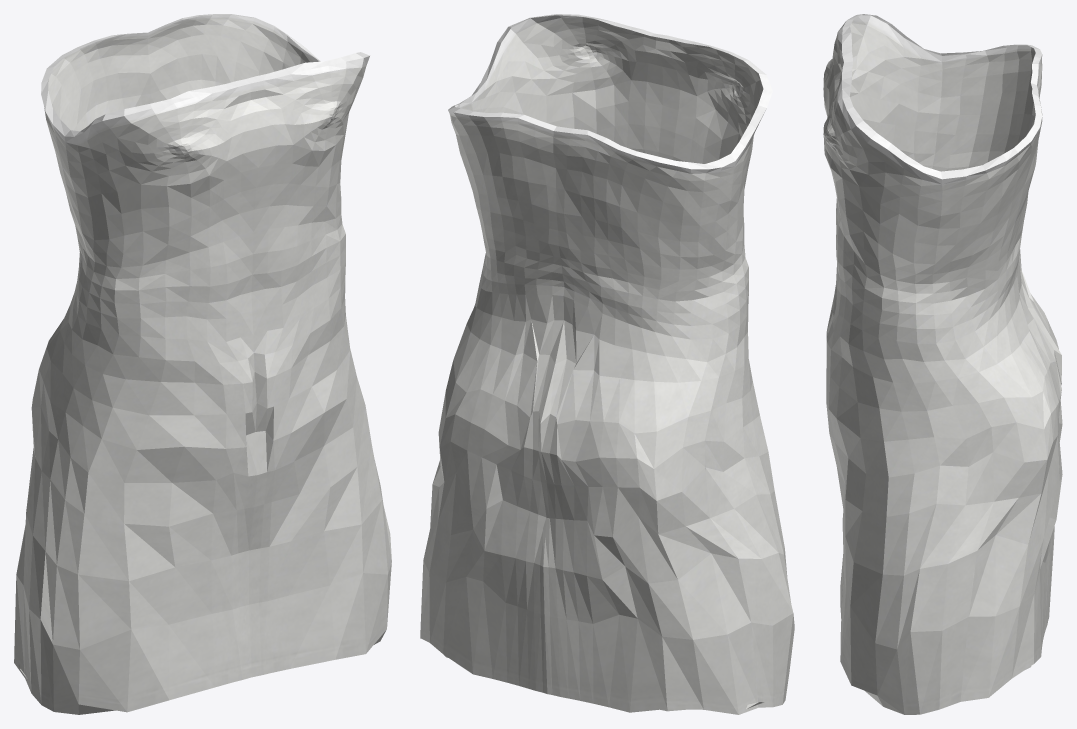
The model's file is mhw_punkduck_tube_dress.glb.
3 renders of one model, left to right at view 1: azimuth 30°, elevation 25°; view 2: azimuth 150°, elevation 25°; view 3: azimuth 270°, elevation 25°, orthographic. The views are drawn at different scales.
Visible parts, largest first — view 1: mhw_punkduck_tube_dress; view 2: mhw_punkduck_tube_dress; view 3: mhw_punkduck_tube_dress.
Boxes of the visible parts, x1,y1,x2,y2 form: mhw_punkduck_tube_dress: (14,14,391,714); mhw_punkduck_tube_dress: (420,14,794,714); mhw_punkduck_tube_dress: (823,14,1062,714).
Size of the model in its own units: 0.4512 by 0.7576 by 0.2829.
Materials: 1 (1 with a texture image).
